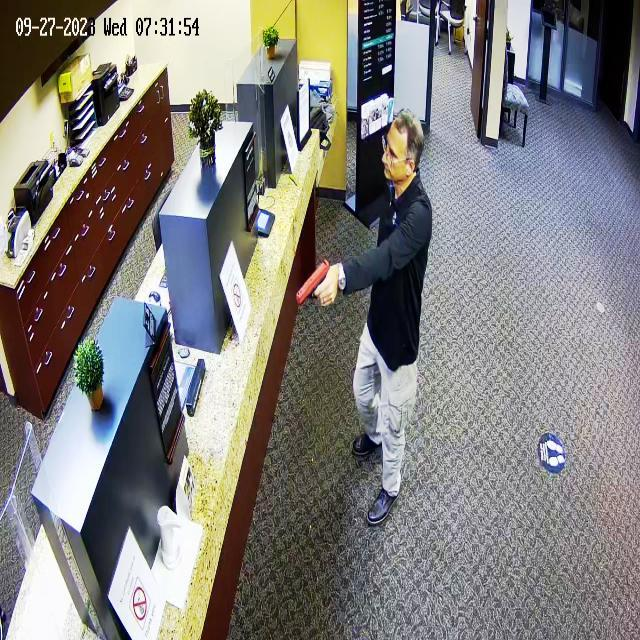Gun: (288, 254, 342, 318)
